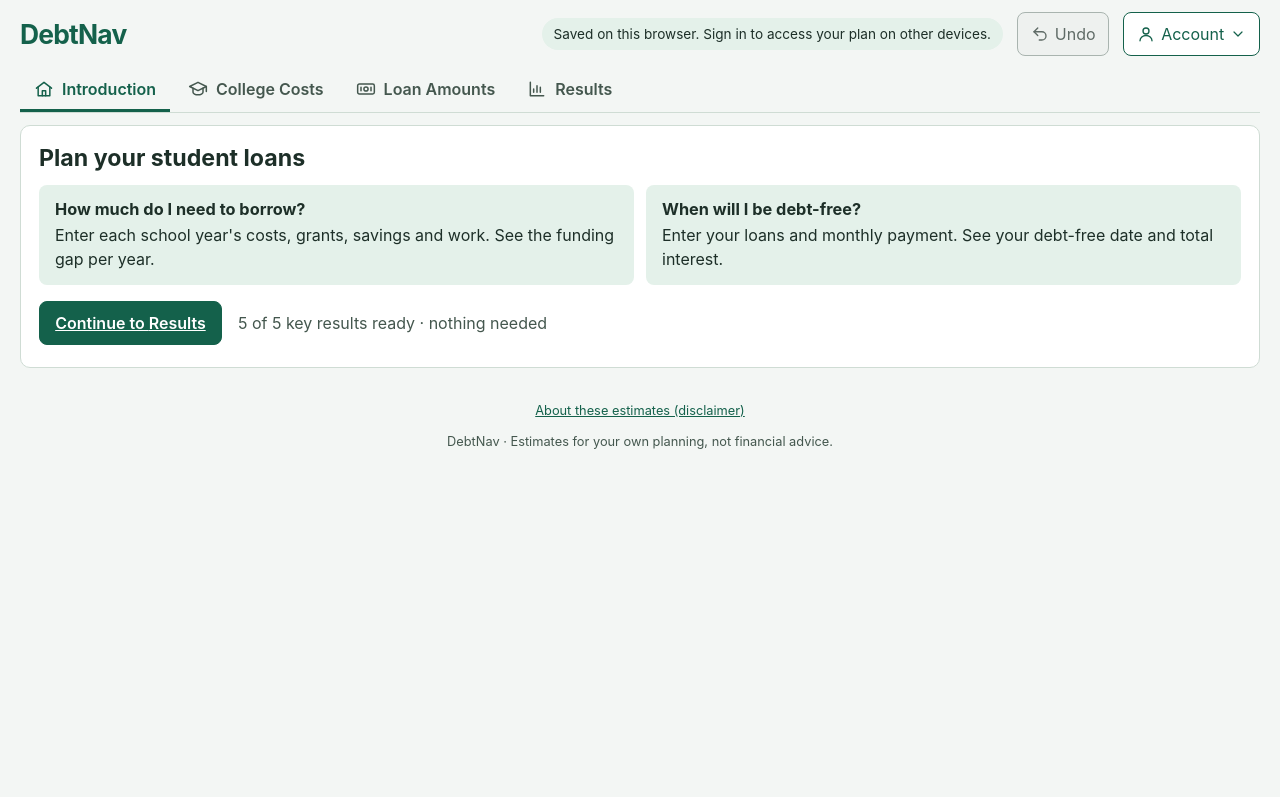
Test: payoff mode (US-506) › explains a target that is in the past without touching the budget
This screenshot has width=1280, height=797.
Click the link "Results": (570, 88) [527, 78, 612, 98]
(page scrolled)
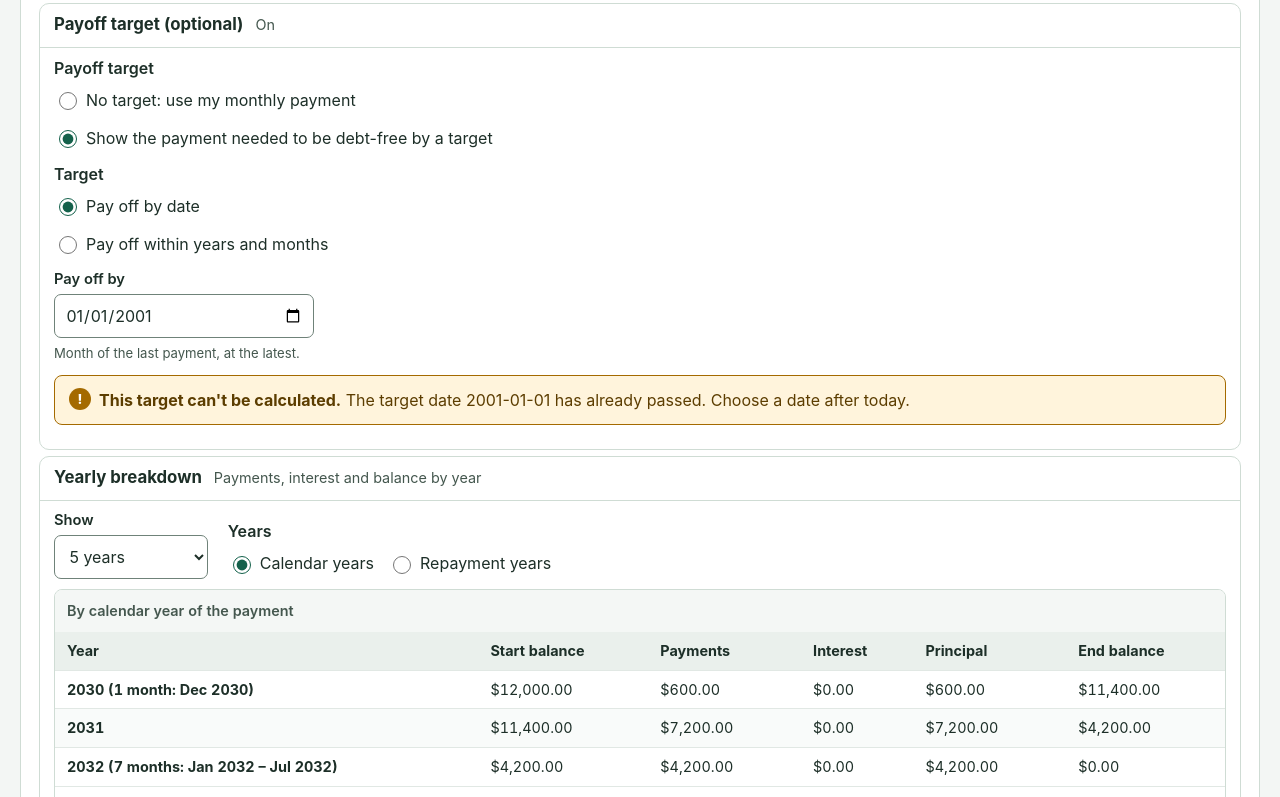
Result: the message with class "target-result" shows "can't be calculated" at [99, 390, 341, 410]
